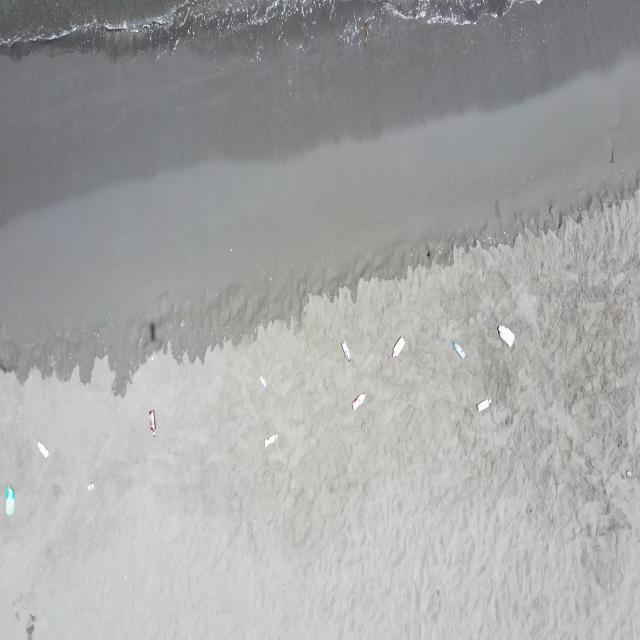plastic-bottle: (496, 323, 516, 349), (390, 335, 406, 359), (6, 485, 16, 517), (352, 392, 368, 411), (476, 397, 492, 414), (36, 441, 51, 459), (452, 341, 466, 360), (341, 340, 352, 362), (148, 409, 156, 436), (264, 432, 279, 446), (258, 373, 269, 392), (6, 485, 16, 501), (86, 481, 95, 493)
